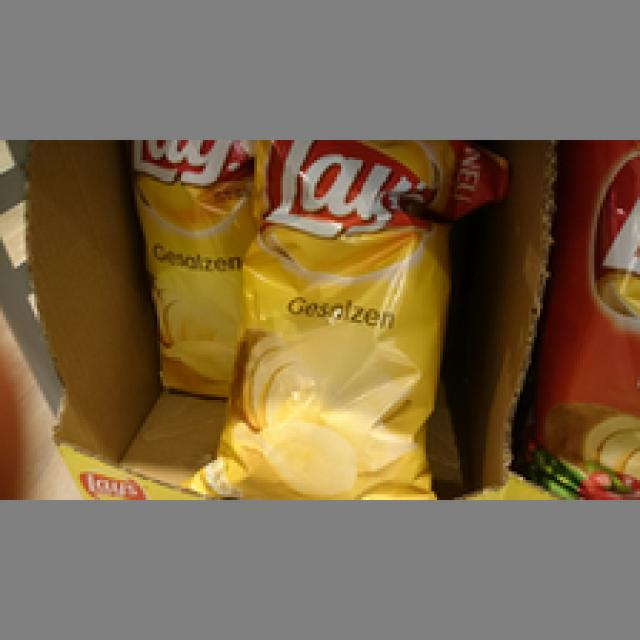groceries: (226, 140, 451, 497), (129, 137, 254, 397)
